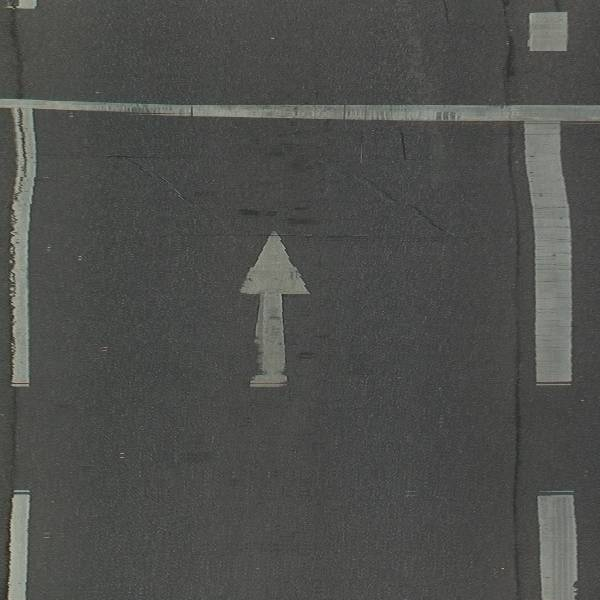road_damage: (355, 172, 456, 240), (111, 147, 197, 206)
